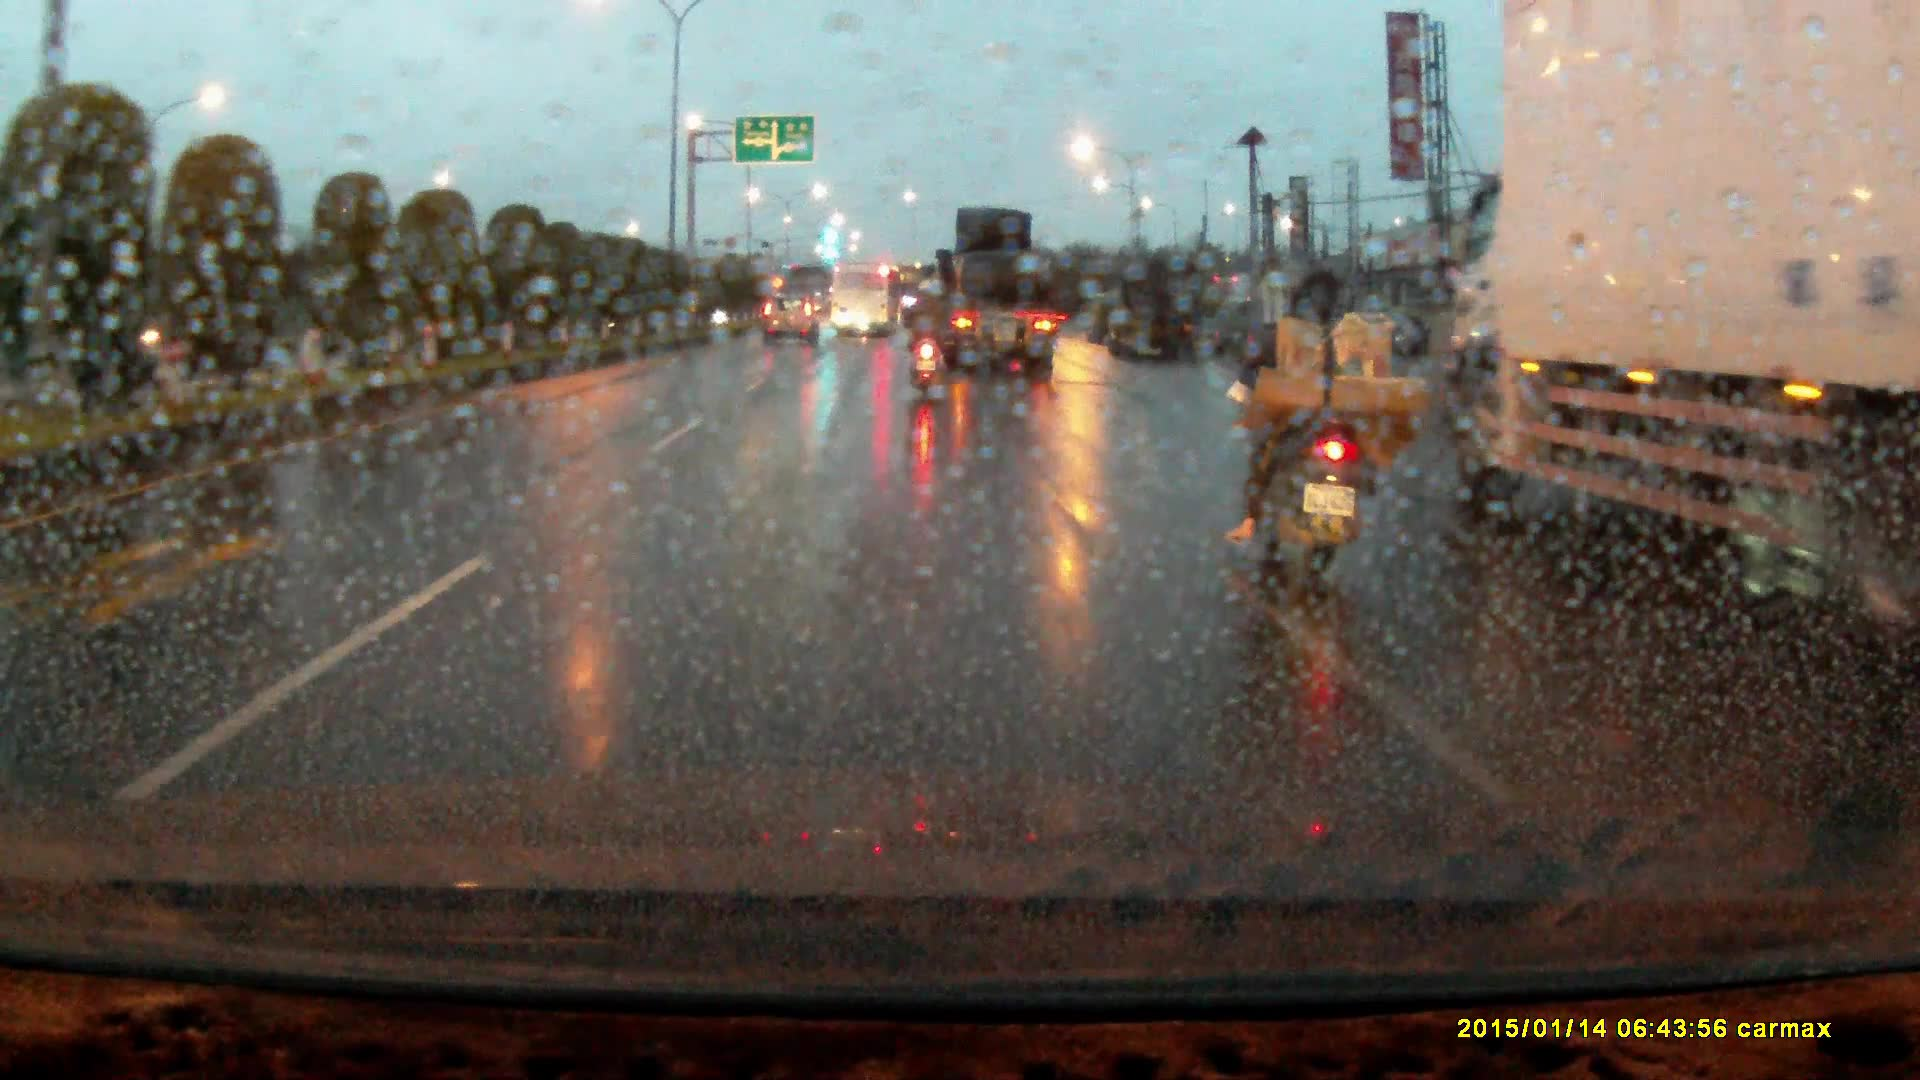rider: (1222, 253, 1437, 590), (909, 281, 954, 397)
vehicle: (1435, 1, 1920, 588), (914, 206, 1058, 379), (1115, 259, 1200, 359), (833, 264, 902, 340), (764, 291, 821, 341), (1084, 292, 1125, 343)
